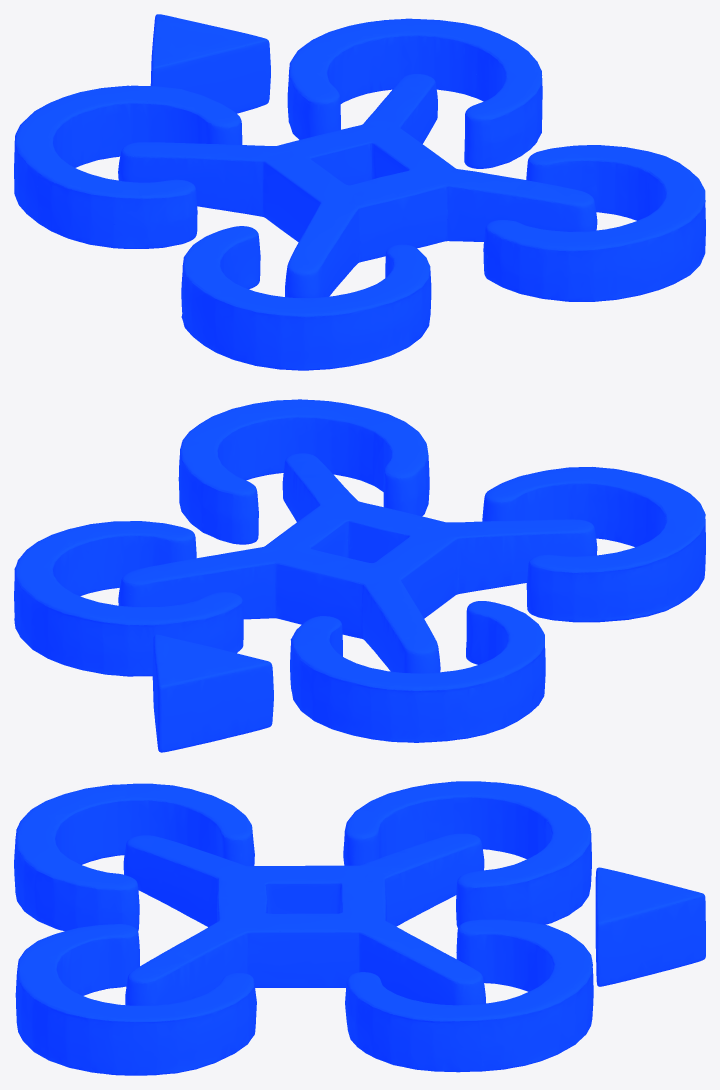
Rendered from Drone.gltf.
The picture shows the model from 3 angles, top to bottom: view 1: azimuth 30°, elevation 25°; view 2: azimuth 150°, elevation 25°; view 3: azimuth 270°, elevation 25°; orthographic projection.
Parts seen in each view (by area): view 1: model; view 2: model; view 3: model.
Part boxes in pixels (box(x1,y1,x2,y2)): model: box(14, 14, 705, 370); model: box(14, 399, 705, 752); model: box(14, 781, 705, 1075).
Size of the model in its own units: 1.56 by 0.2058 by 1.9.
